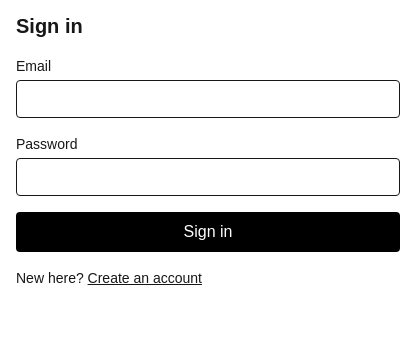
Test case: AuthForm › showsAReadableMessageForWrongCredentialsAndStaysOnThePage
This screenshot has width=417, height=356.
Type "alice@example.com" into the field labelled "Email".
click(208, 99); type("alice@example.com")  # box x1=16 y1=80 x2=400 y2=118
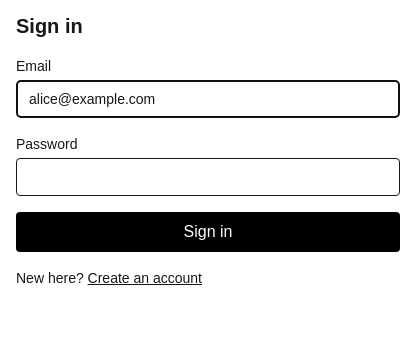
Type "wrong-pass" into the password field labelled "Password".
click(208, 177); type("wrong-pass")  # box x1=16 y1=158 x2=400 y2=196
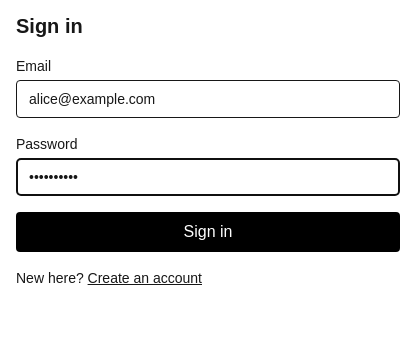
Click the button "Sign in".
click(208, 232)  # box x1=16 y1=212 x2=400 y2=252
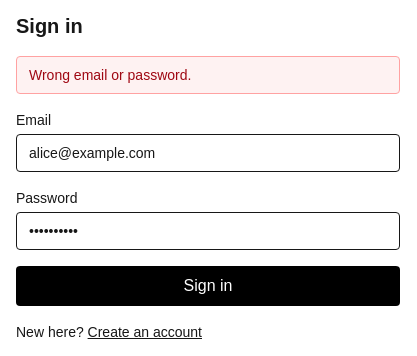
Now the message shows "Wrong email or password", box x1=29 y1=67 x2=191 y2=83
